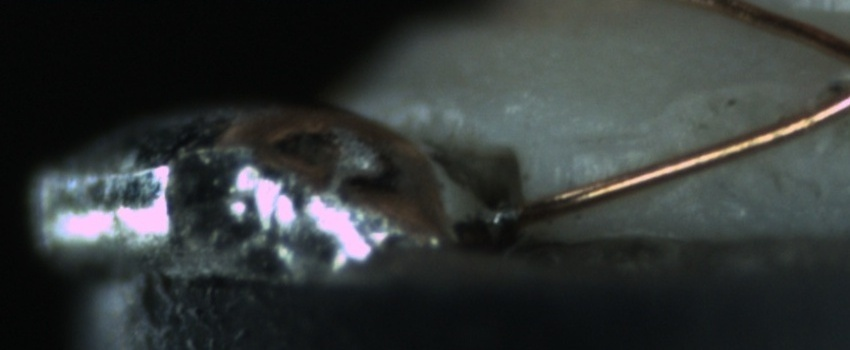DL: (562, 110, 660, 170)
